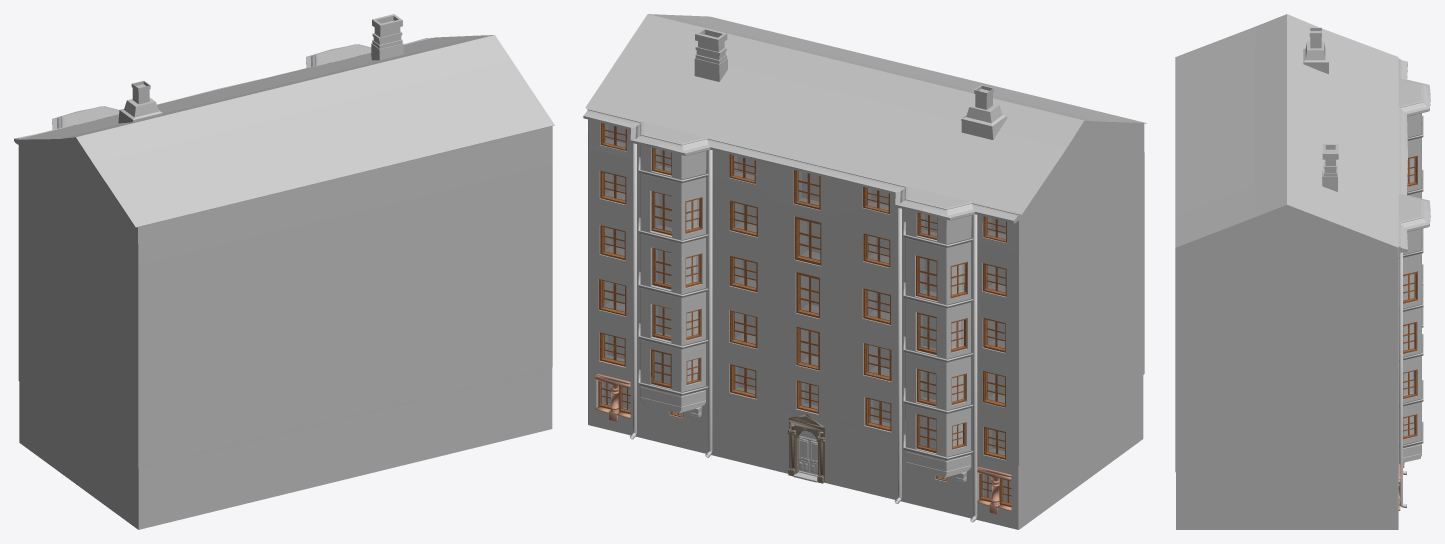
The model's file is Apartment4.fbx.
The picture shows the model from 3 angles, left to right: view 1: azimuth 30°, elevation 25°; view 2: azimuth 150°, elevation 25°; view 3: azimuth 270°, elevation 25°; orthographic projection. The views are drawn at different scales.
Visible parts, largest first — view 1: Apartment4, FullHouse.147, Apartment4.008, Apartment4.005, Apartment4.007, Apartment4.004, Apartment4.009, Apartment4.006, Apartment4.003, 5th_L_C.013, FullHouse.145; view 2: Apartment4, FullHouse.147, Apartment4.008, FullHouse.145, Cylinder, Apartment4.005, Apartment4.007, 5th_L_C.013, Apartment4.004, Apartment4.009, Apartment4.002, Apartment4.003 (+33 smaller); view 3: Apartment4, FullHouse.147, Apartment4.003, FullHouse.145, 5th_L_C.013, Cylinder, FullHouse.277, FullHouse.281, FullHouse.282, FullHouse.248, FullHouse.287.
Boxes of the visible parts, x1,y1,x2,y2 form: Apartment4: [18, 53, 552, 468]; FullHouse.147: [16, 35, 554, 227]; Apartment4.008: [19, 381, 184, 529]; Apartment4.005: [370, 395, 438, 472]; Apartment4.007: [246, 425, 313, 503]; Apartment4.004: [438, 380, 501, 456]; Apartment4.009: [184, 442, 246, 518]; Apartment4.006: [313, 412, 370, 486]; Apartment4.003: [501, 367, 552, 441]; 5th_L_C.013: [118, 14, 403, 123]; FullHouse.145: [14, 37, 431, 144]; Apartment4: [587, 108, 1144, 465]; FullHouse.147: [585, 14, 1146, 214]; Apartment4.008: [971, 375, 1143, 529]; FullHouse.145: [583, 108, 1018, 223]; Cylinder: [630, 143, 977, 522]; Apartment4.005: [706, 389, 776, 470]; Apartment4.007: [835, 421, 906, 502]; 5th_L_C.013: [694, 27, 1007, 139]; Apartment4.004: [641, 390, 706, 453]; Apartment4.009: [906, 454, 971, 518]; Apartment4.002: [640, 387, 971, 481]; Apartment4.003: [588, 361, 641, 437]; Apartment4: [1175, 113, 1423, 472]; FullHouse.147: [1175, 14, 1398, 247]; Apartment4.003: [1176, 472, 1398, 529]; FullHouse.145: [1398, 58, 1430, 252]; 5th_L_C.013: [1303, 27, 1338, 191]; Cylinder: [1399, 252, 1406, 507]; FullHouse.277: [1403, 271, 1417, 303]; FullHouse.281: [1403, 322, 1416, 353]; FullHouse.282: [1403, 369, 1416, 398]; FullHouse.248: [1407, 155, 1417, 186]; FullHouse.287: [1403, 414, 1416, 439].
Bounding box in the file's own units: 28.35 × 24.03 × 16.06.
